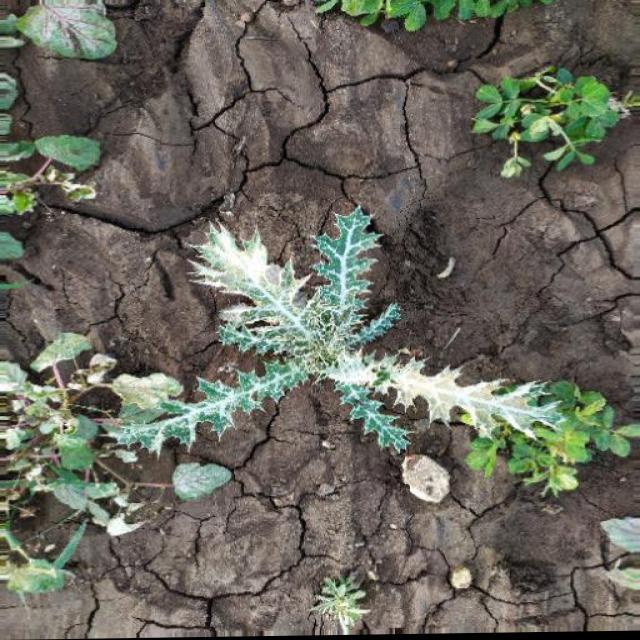weed: (111, 167, 569, 519), (435, 55, 633, 202), (15, 345, 146, 542)
